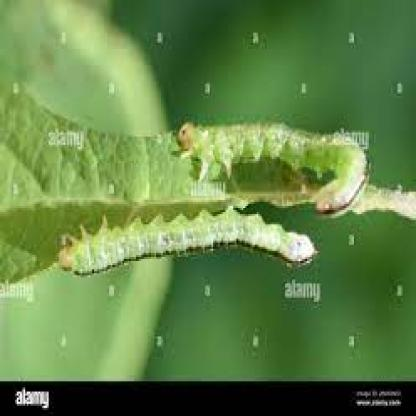sawfly: (56, 197, 319, 281), (175, 116, 373, 213)
